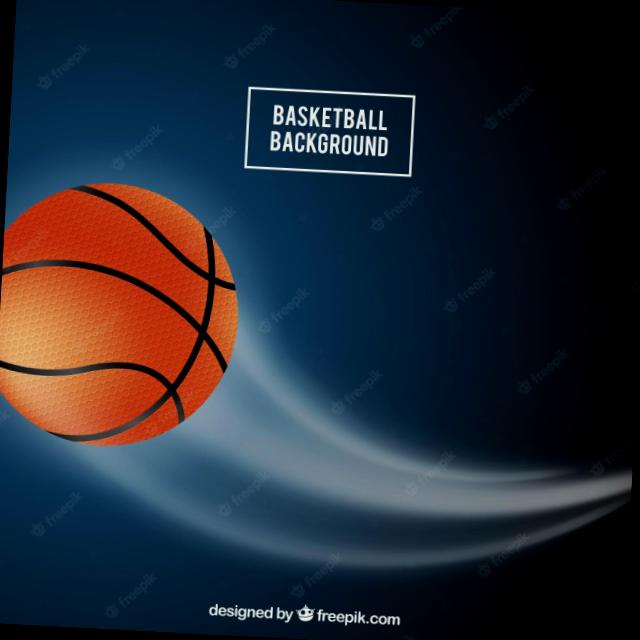ball: (0, 172, 251, 456)
